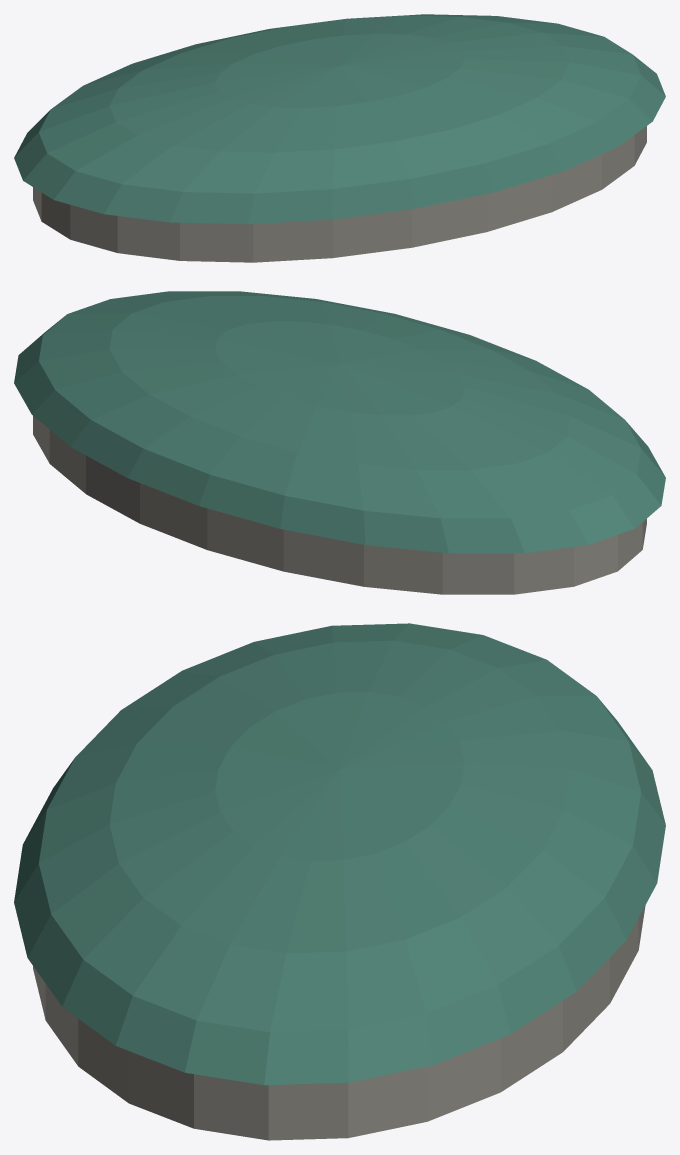
File: velodromo.glb
3 renders of one model, top to bottom at view 1: azimuth 30°, elevation 25°; view 2: azimuth 150°, elevation 25°; view 3: azimuth 270°, elevation 25°, orthographic. The views are drawn at different scales.
Parts seen in each view (by area): view 1: chunk_0_0; view 2: chunk_0_0; view 3: chunk_0_0.
Boxes of the visible parts, x1,y1,x2,y2 form: chunk_0_0: [14, 14, 665, 262]; chunk_0_0: [14, 291, 665, 594]; chunk_0_0: [14, 623, 665, 1140].
Bounding box in the file's own units: 125 × 21.5 × 78.01.
